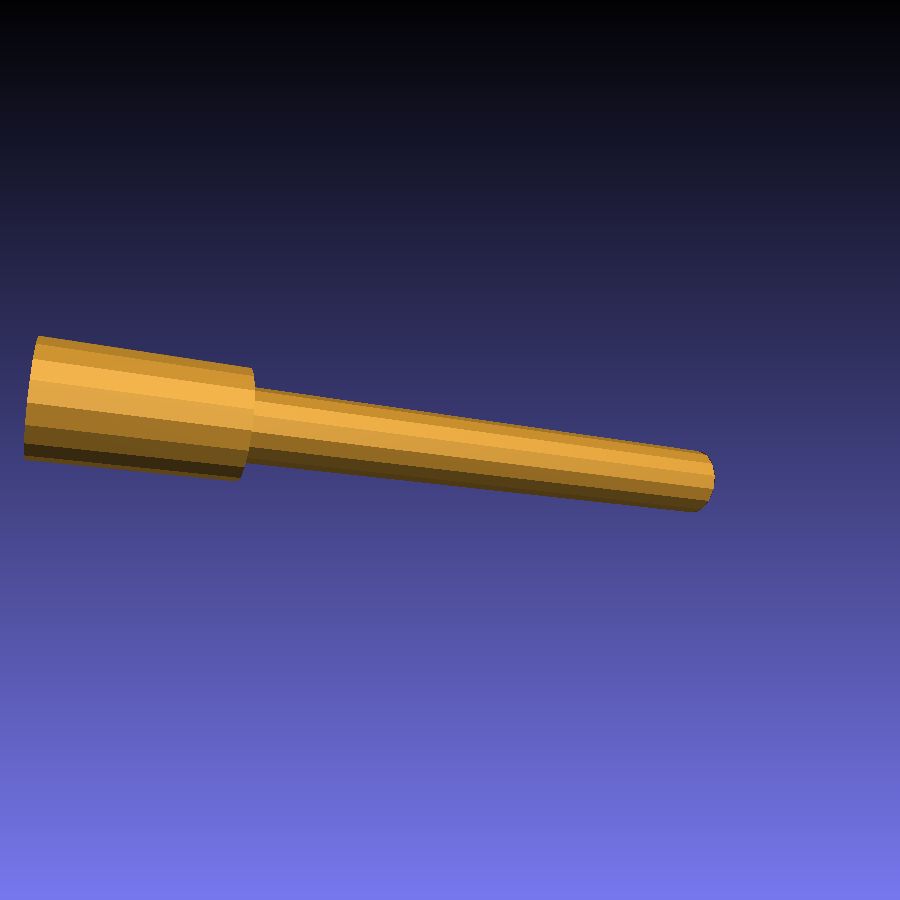cargo_g: (21, 332, 714, 515)
